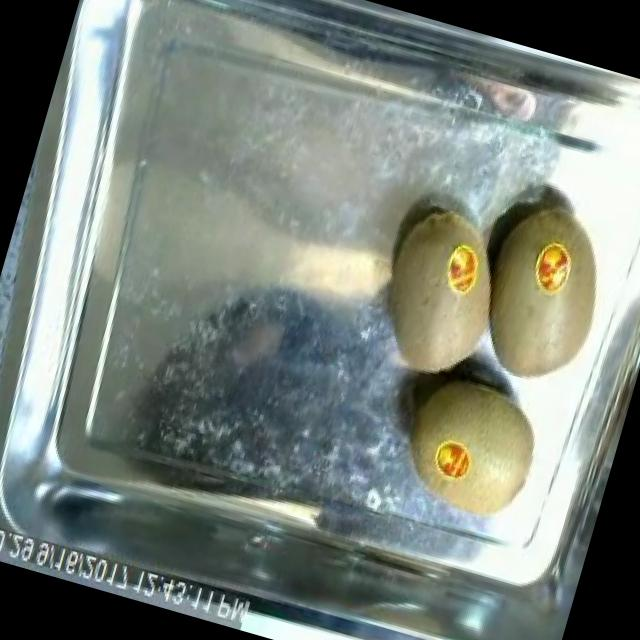Fruit: (354, 184, 526, 396), (383, 358, 562, 538), (493, 224, 623, 395)
